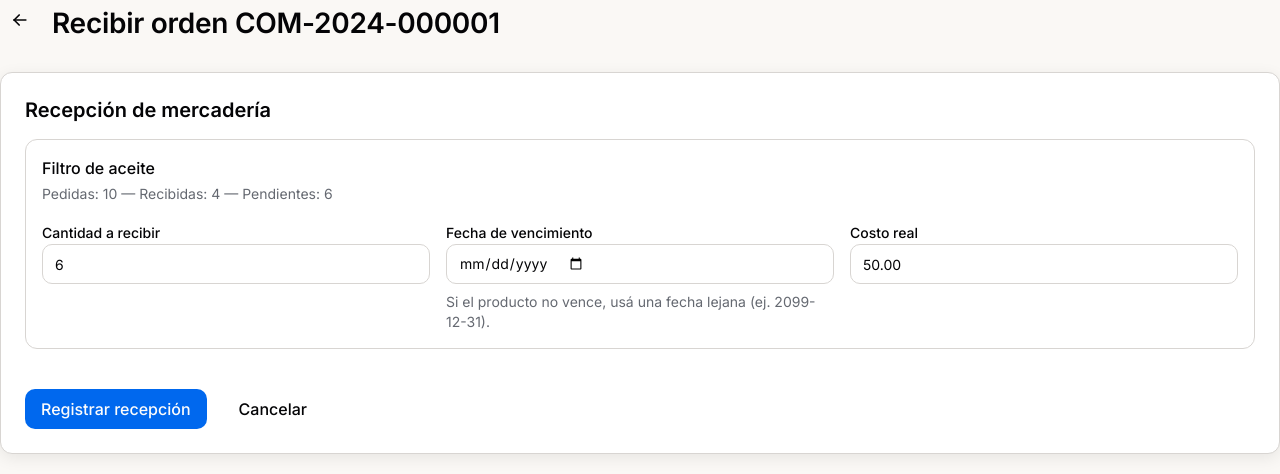
Test case: PurchaseOrderReceivePage › rejects a quantity above the remaining
Replace the text in the number field labelled "Cantidad a recibir" with "10" at coordinates (236, 264), box top-left (42, 244), bottom-right (430, 284)
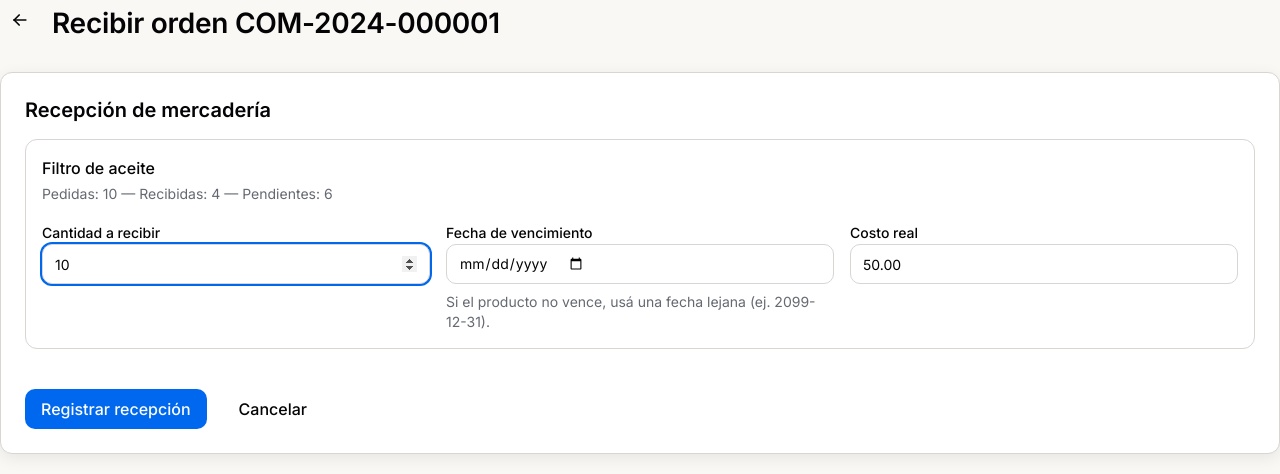
Click the button "Registrar recepción" at coordinates (116, 409), box top-left (25, 389), bottom-right (207, 429)
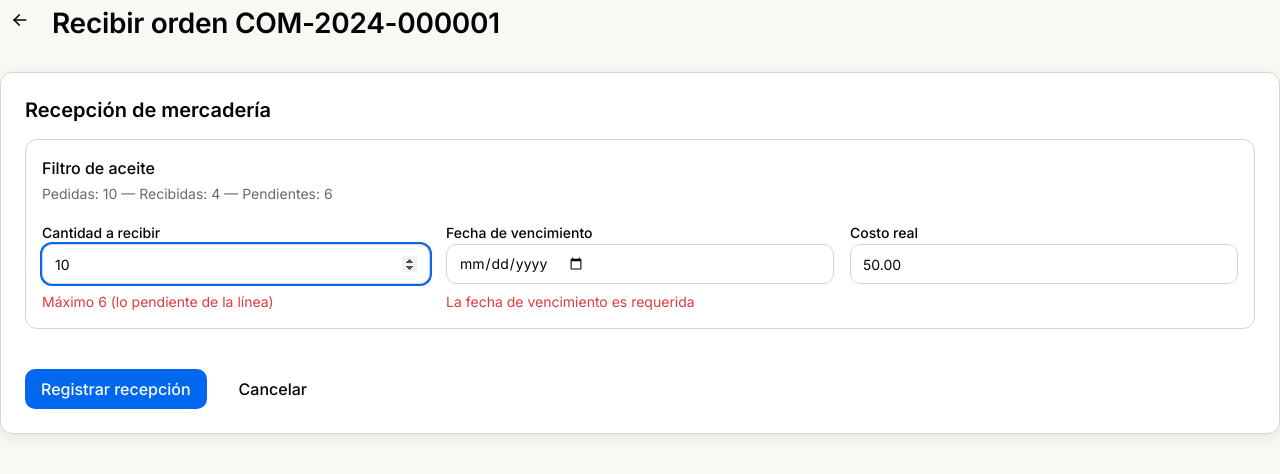
Expected: the text "Máximo 6 (lo pendiente de la línea)" is shown, top-left (42, 293), bottom-right (274, 310)
